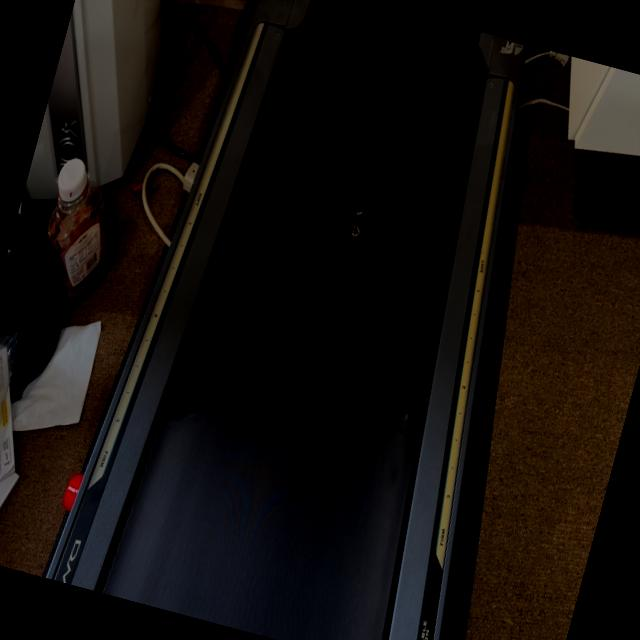Trash: (343, 200, 368, 243)
